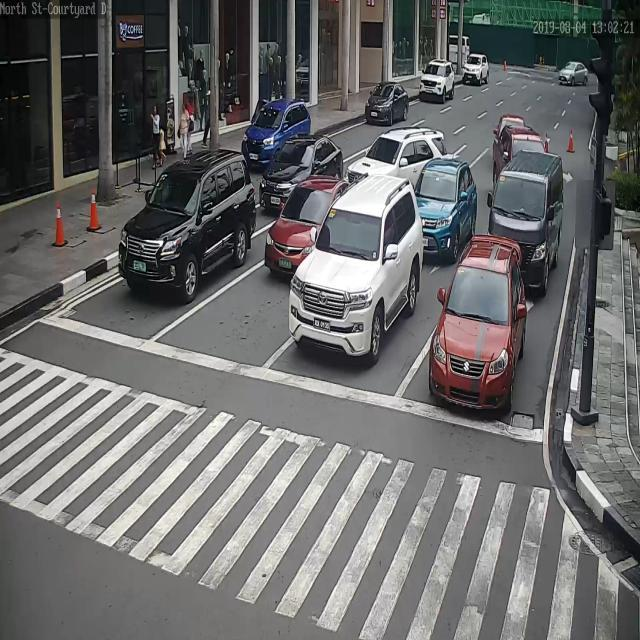car: (289, 173, 423, 362), (117, 147, 257, 304), (427, 236, 529, 413), (262, 176, 354, 283), (259, 133, 345, 216), (413, 156, 477, 264), (346, 128, 449, 186), (241, 96, 311, 170), (492, 125, 550, 188), (363, 81, 410, 126), (420, 61, 455, 106), (463, 53, 489, 87), (556, 60, 588, 85), (494, 115, 527, 138)
van: (488, 152, 566, 293)
